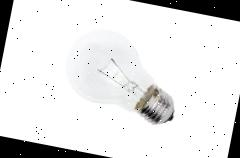lightbulb: (56, 22, 186, 128)
